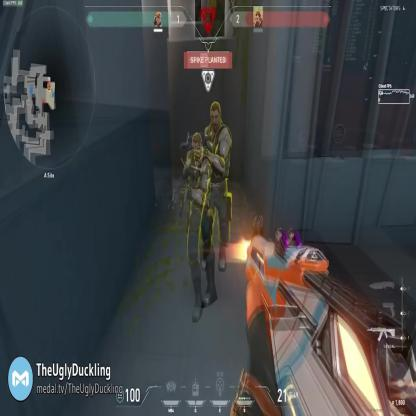enemy: (197, 100, 233, 306)
enemy_head: (209, 101, 221, 130)
